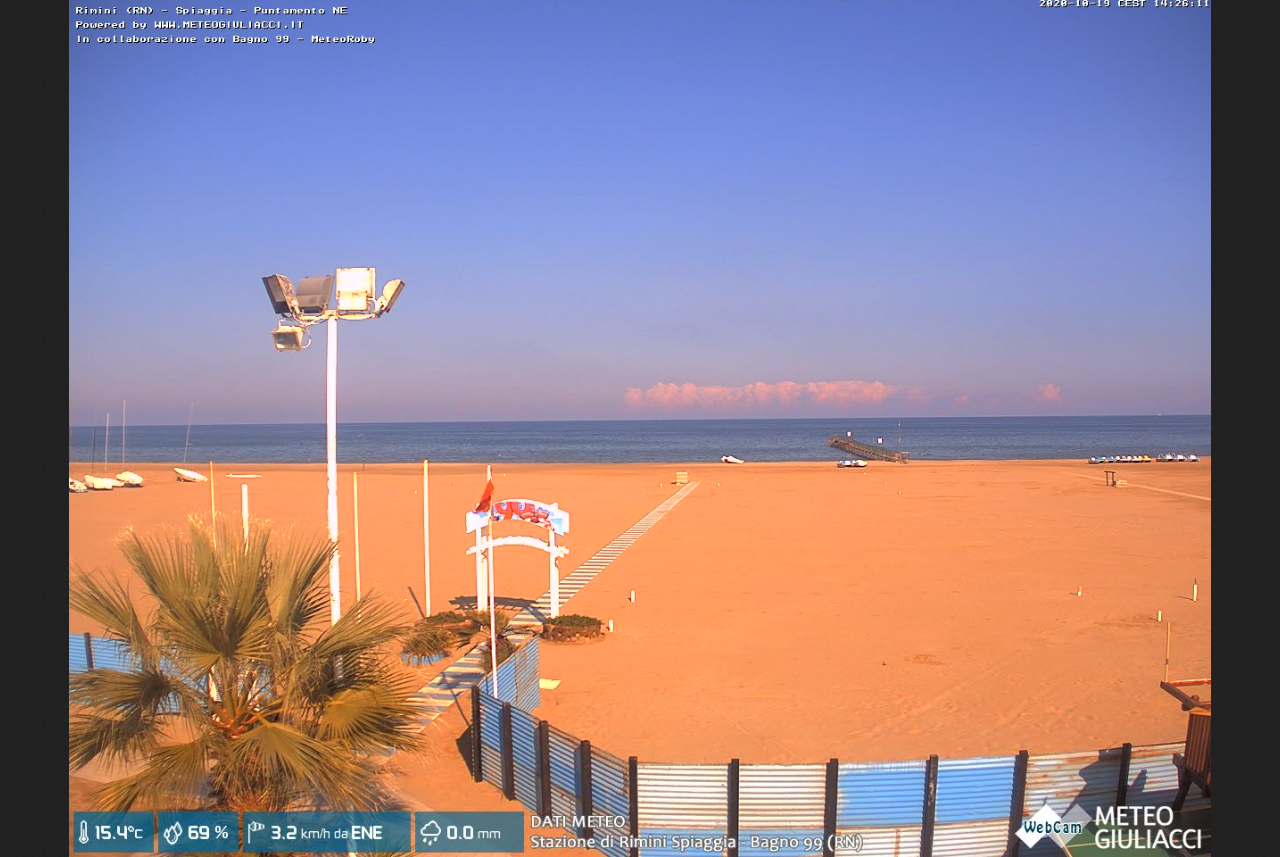no: (472, 472, 495, 519)
